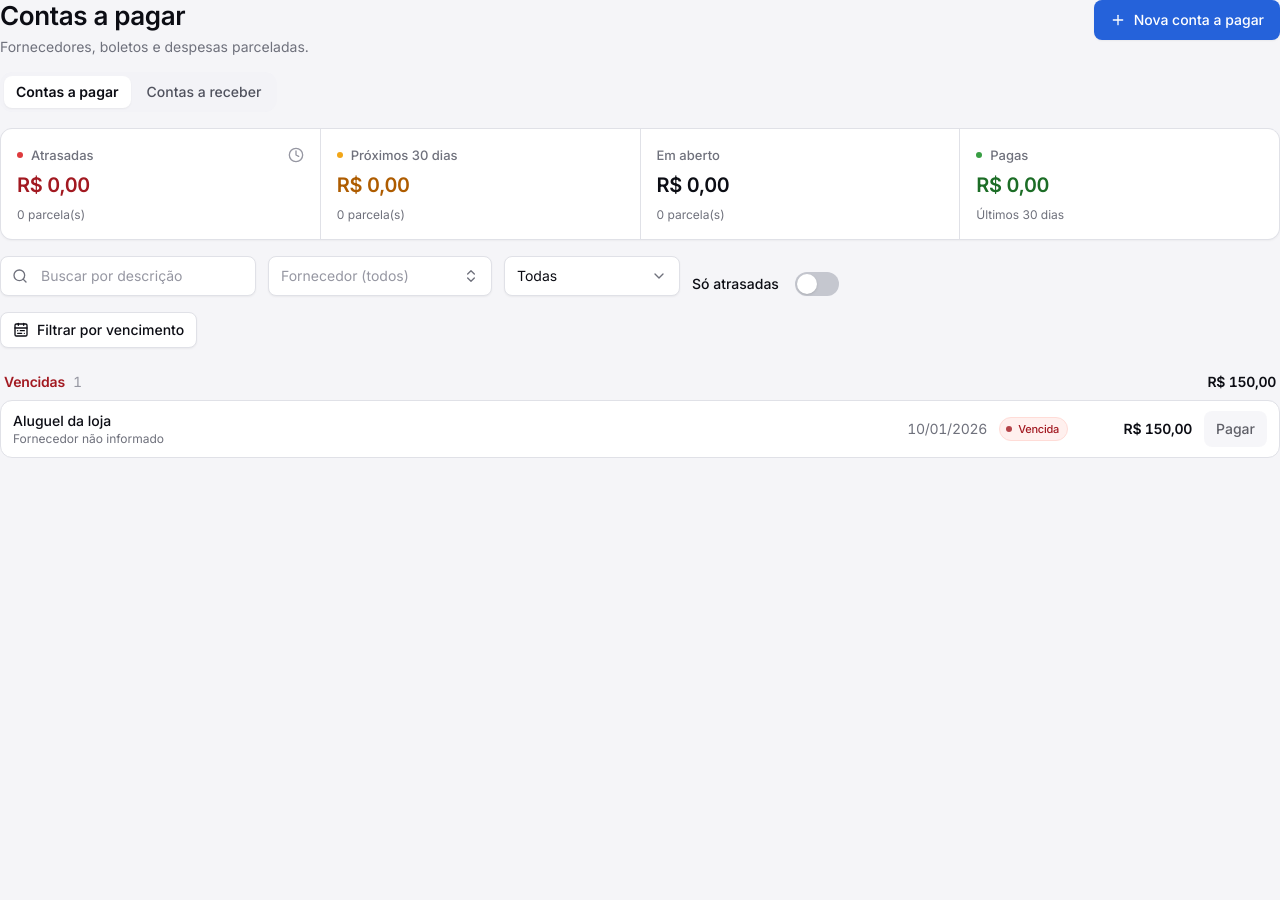
Scenario: ContasPagarPage › abre a baixa rápida a partir da linha
Click the button "Pagar" at (1236, 429), box [1204,411,1267,447]
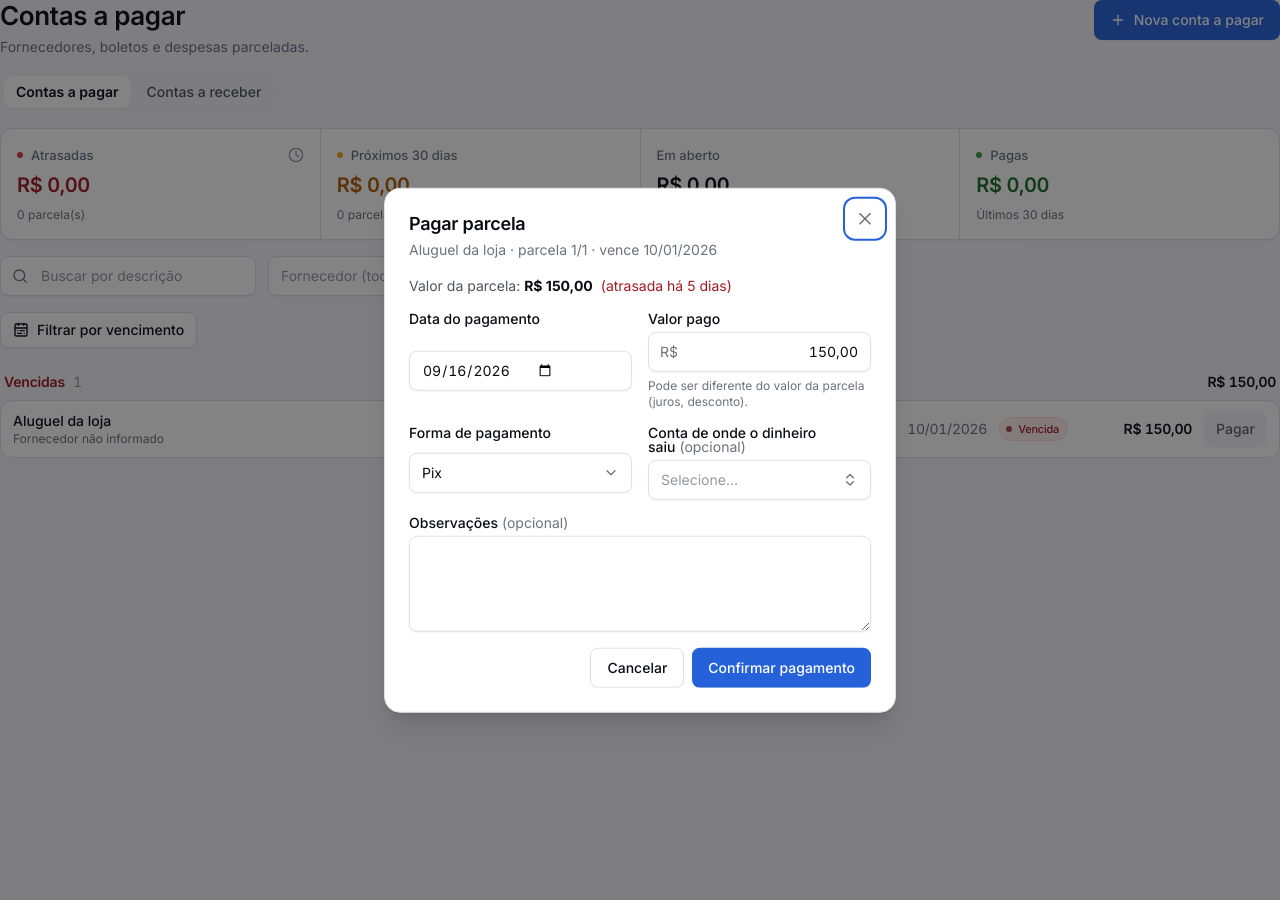
Now the heading "Pagar parcela" is shown, box [409,213,526,234]
